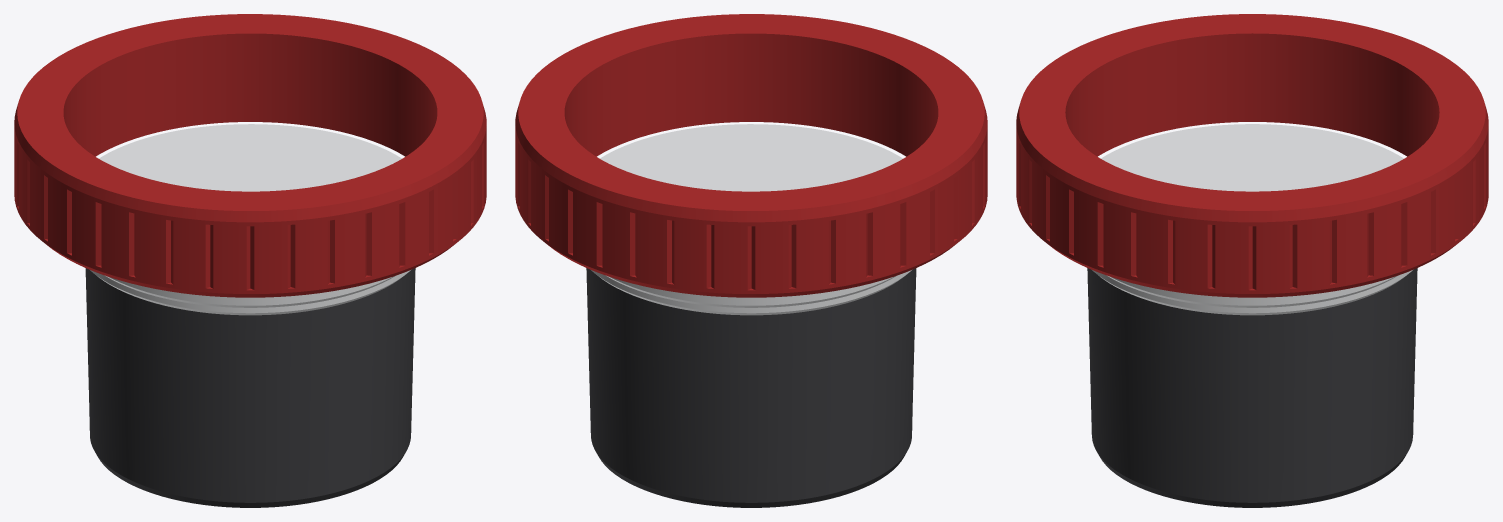
The model's file is motor-tail.glb.
3 renders of one model, left to right at view 1: azimuth 30°, elevation 25°; view 2: azimuth 150°, elevation 25°; view 3: azimuth 270°, elevation 25°, orthographic.
Parts seen in each view (by area): view 1: motor_tail; view 2: motor_tail; view 3: motor_tail.
Part boxes in pixels (x1,y1,x2,y2): motor_tail: (14,14,486,507); motor_tail: (515,14,987,507); motor_tail: (1016,14,1488,507).
Bounding box in the file's own units: 0.0644 × 0.0495 × 0.0644.
